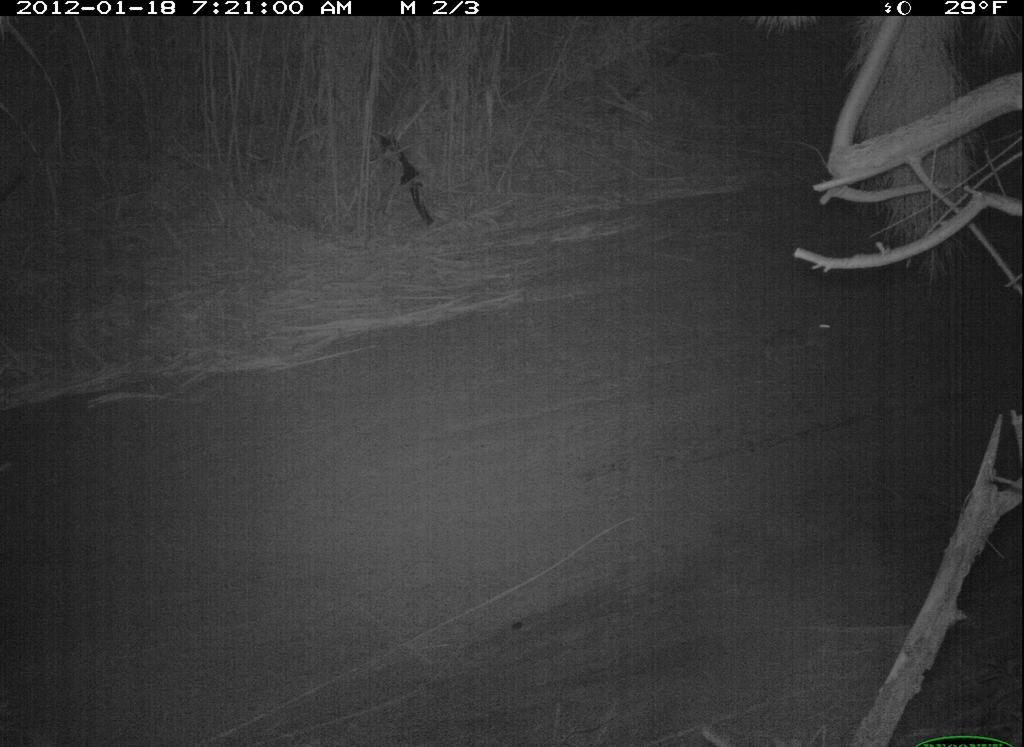rabbit: (761, 304, 862, 369)
